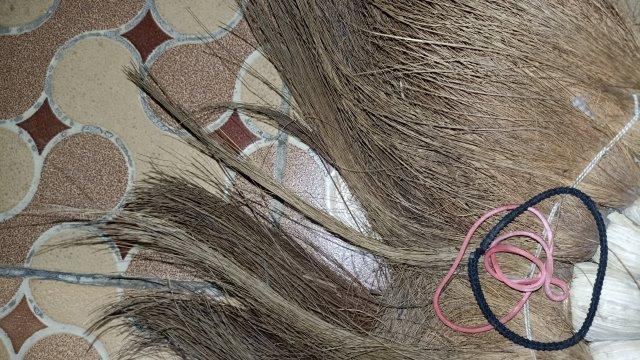karet: (433, 187, 608, 352)
